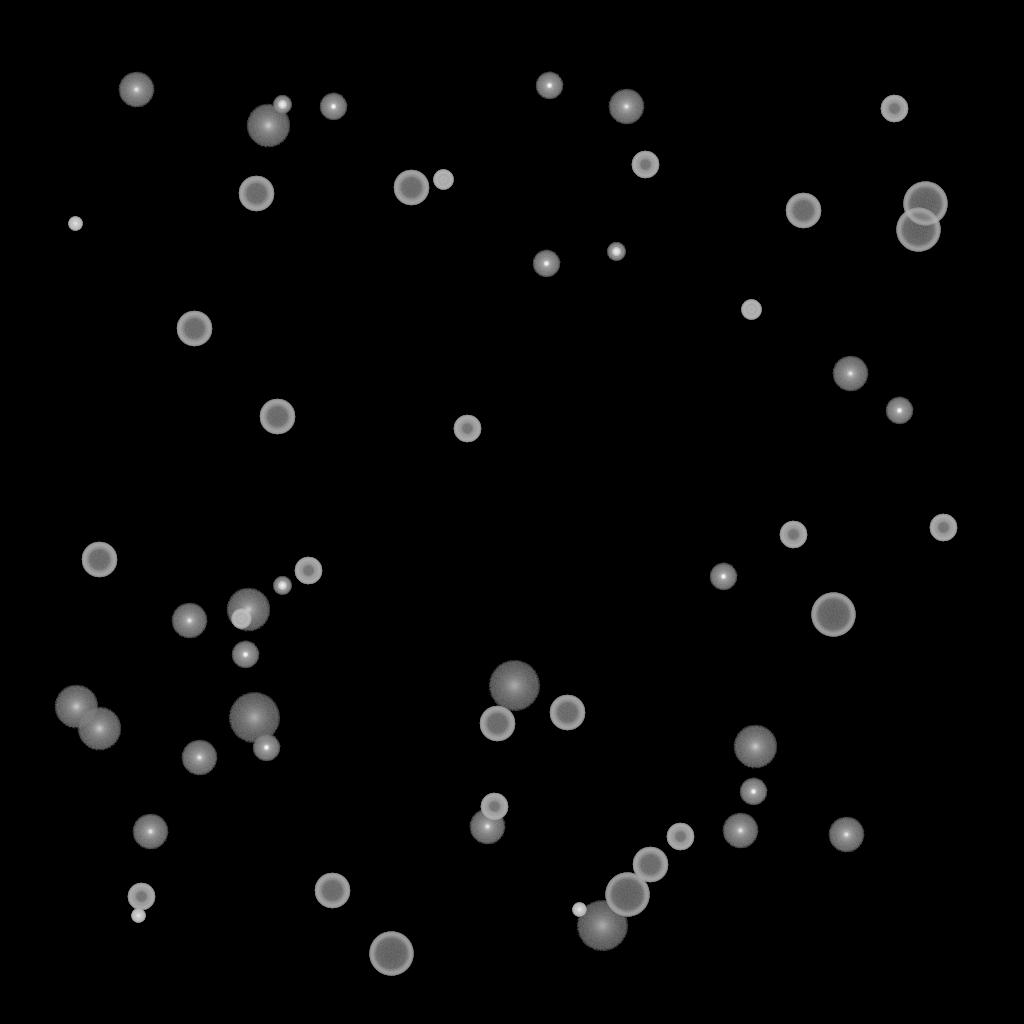depth:-10: (535, 72, 563, 100), (252, 734, 280, 762), (709, 563, 737, 591), (532, 250, 560, 278), (319, 93, 347, 121), (739, 778, 767, 806), (231, 641, 259, 669), (885, 397, 913, 425)
depth:-20: (607, 243, 625, 261), (273, 96, 291, 114), (273, 577, 291, 595)
depth:-30: (572, 903, 586, 917), (68, 217, 82, 231), (131, 909, 145, 923)
depth:-40: (231, 609, 251, 629), (741, 300, 761, 320), (433, 170, 453, 190)
depth:-50: (480, 793, 508, 821), (453, 415, 481, 443), (779, 521, 807, 549), (127, 883, 155, 911), (631, 151, 659, 179), (294, 557, 322, 585), (666, 823, 694, 851), (880, 95, 908, 123), (929, 514, 957, 542)
depth:-60: (81, 542, 117, 578), (314, 873, 350, 909), (259, 399, 295, 435), (393, 170, 429, 206), (176, 311, 212, 347), (632, 847, 668, 883), (785, 193, 821, 229), (549, 695, 585, 731), (238, 176, 274, 212), (479, 706, 515, 742)
depth:-70: (369, 932, 413, 976), (896, 208, 940, 252), (811, 593, 855, 637), (605, 873, 649, 917), (903, 182, 947, 226)
depth:0: (132, 814, 168, 850), (118, 72, 154, 108), (832, 356, 868, 392), (469, 809, 505, 845), (181, 740, 217, 776), (722, 813, 758, 849), (828, 817, 864, 853), (171, 603, 207, 639), (608, 89, 644, 125)
depth:10: (733, 725, 777, 769), (54, 685, 98, 729), (226, 588, 270, 632), (77, 707, 121, 751), (246, 104, 290, 148)
depth:20: (228, 693, 280, 743), (576, 901, 628, 951), (488, 661, 540, 711)
